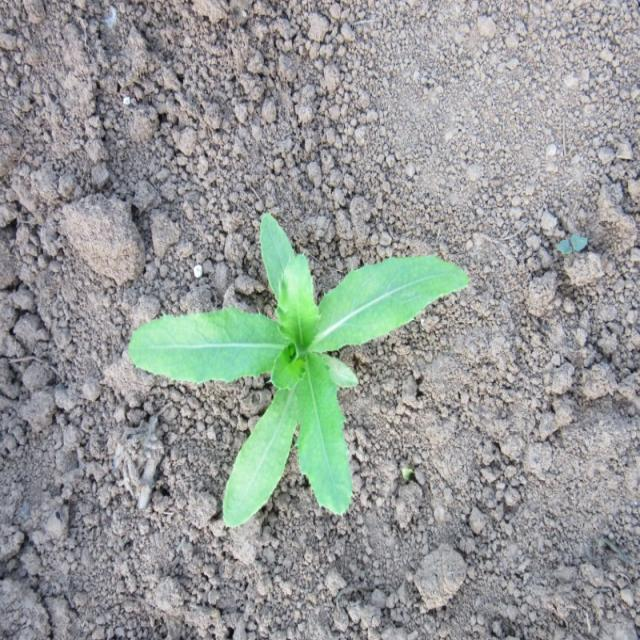cs: (127, 211, 469, 531)
